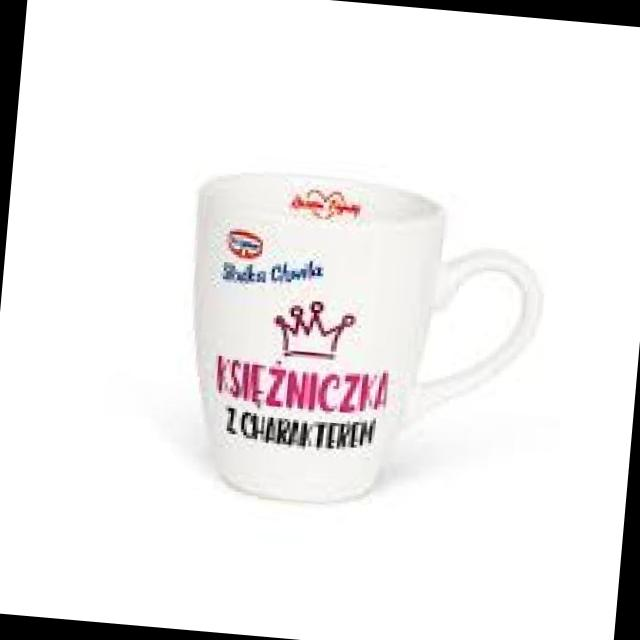Coffee Mug: (169, 163, 552, 524)
